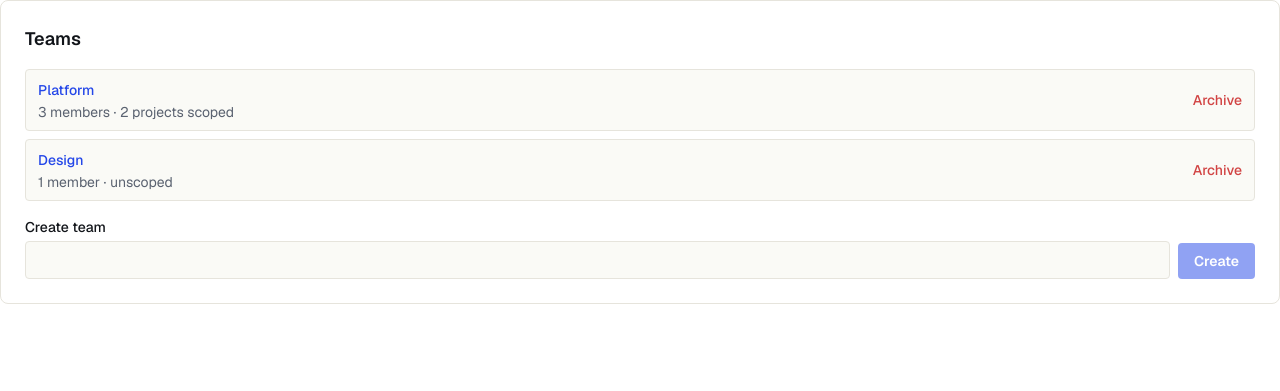
Scenario: TeamList › creates a team and adds it to the list on success
Type "Growth" into the field labelled "Create team" at (598,260), box x1=25 y1=241 x2=1170 y2=279
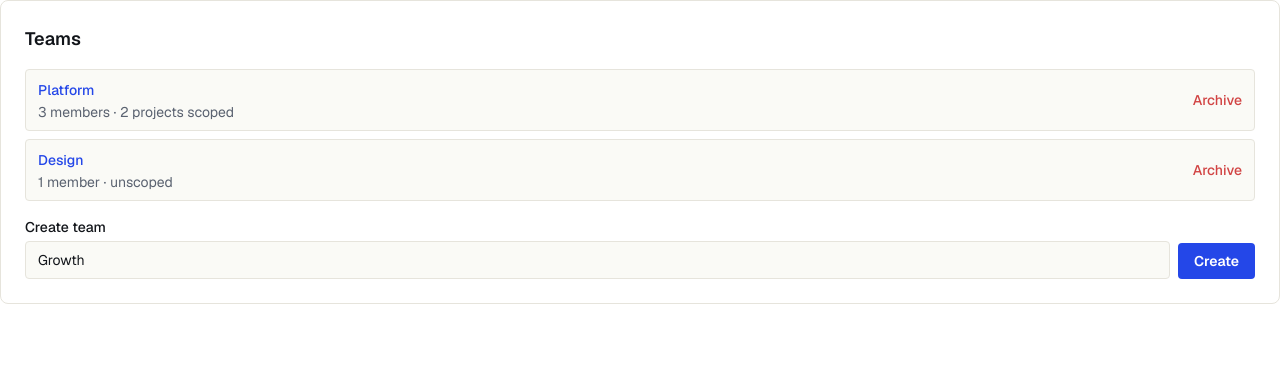
Click the button "Create" at (1216,261), box x1=1178 y1=243 x2=1255 y2=279
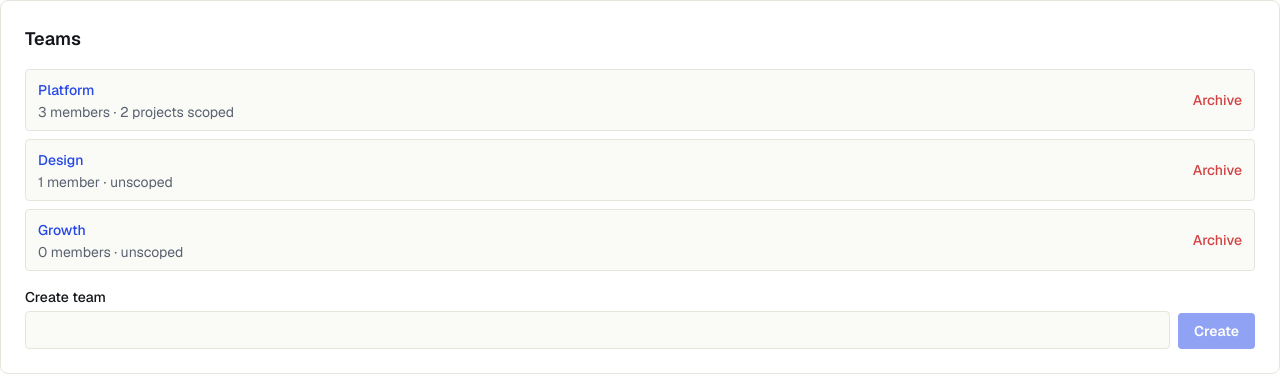
Expected: the link "Growth" is shown, x1=38 y1=221 x2=86 y2=239
Expected: the text "0 members · unscoped" is shown, x1=38 y1=242 x2=183 y2=262
